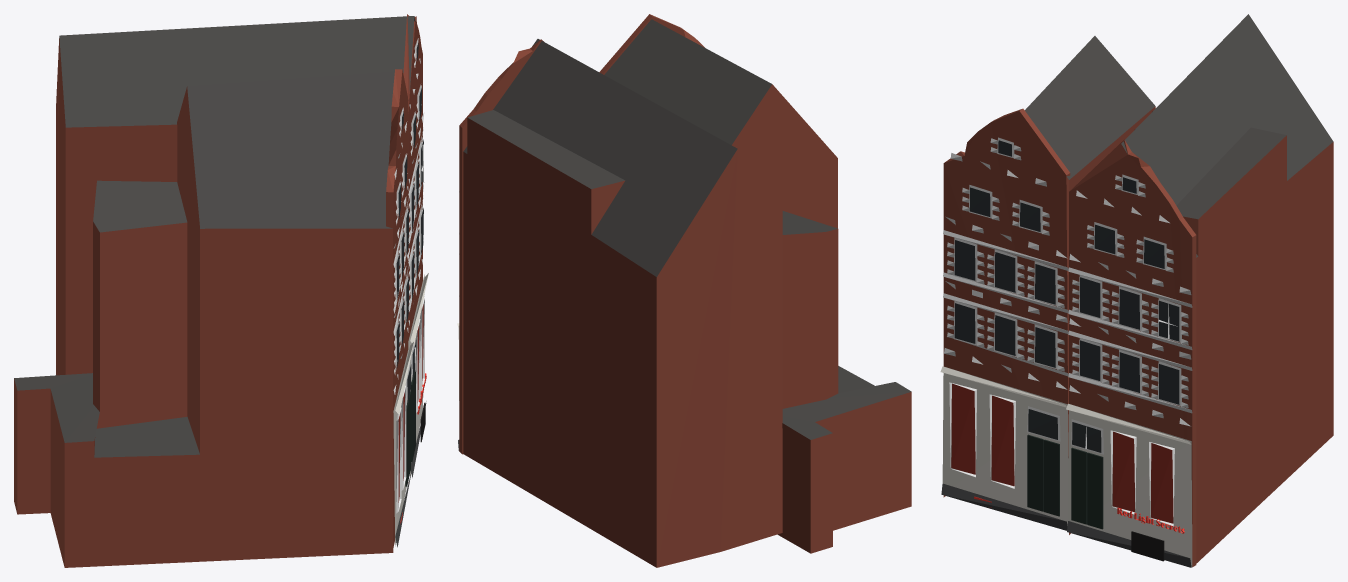
The model's file is red-light-secrets.lod1.glb.
3 renders of one model, left to right at view 1: azimuth 30°, elevation 25°; view 2: azimuth 150°, elevation 25°; view 3: azimuth 270°, elevation 25°, orthographic. The views are drawn at different scales.
Parts seen in each view (by area): view 1: red-light-secrets; view 2: red-light-secrets; view 3: red-light-secrets.
Part boxes in pixels (x1,y1,x2,y2): red-light-secrets: (14, 14, 428, 567); red-light-secrets: (457, 14, 911, 567); red-light-secrets: (940, 14, 1333, 567).
Size of the model in its own units: 16.85 by 16.54 by 14.38.
